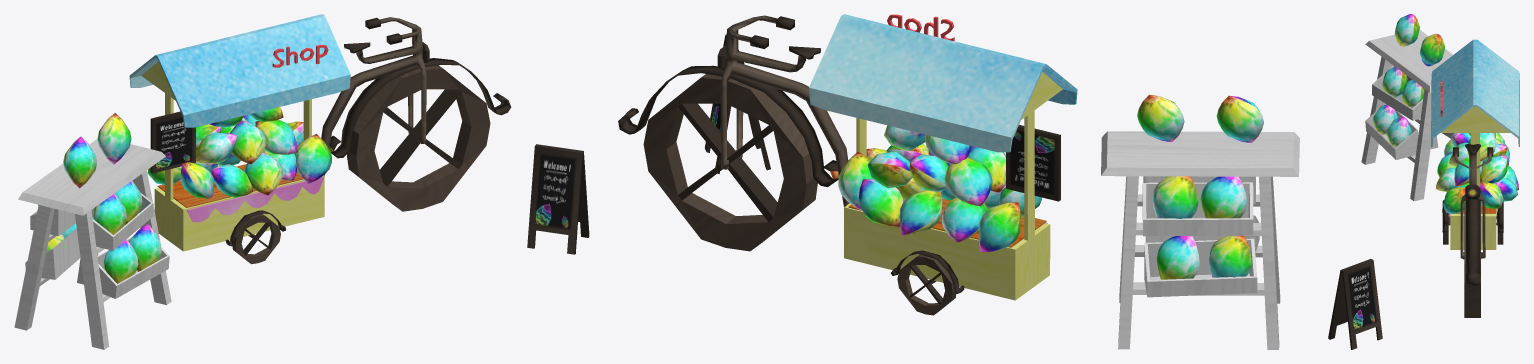
Rendered from shop_3d_039.fbx.
3 renders of one model, left to right at view 1: azimuth 30°, elevation 25°; view 2: azimuth 150°, elevation 25°; view 3: azimuth 270°, elevation 25°, orthographic. The views are drawn at different scales.
Visible parts, largest first — view 1: ベジエカーブ; view 2: ベジエカーブ; view 3: ベジエカーブ.
Boxes of the visible parts, bbox=[...] form: ベジエカーブ: bbox=[14, 14, 589, 349]; ベジエカーブ: bbox=[618, 14, 1299, 349]; ベジエカーブ: bbox=[1328, 14, 1519, 349].
Bounding box in the file's own units: 751 × 288 × 292.
